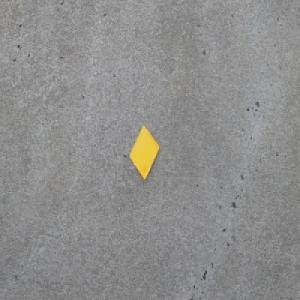PlasticPart: (128, 124, 160, 180)
